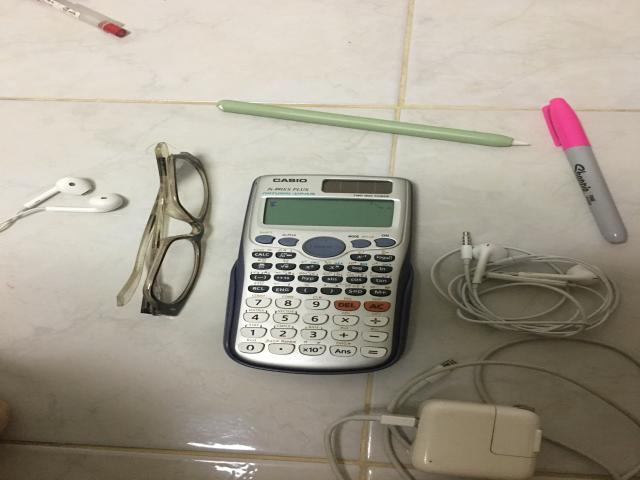Glasses: (117, 142, 210, 316)
Pen: (543, 98, 627, 244), (38, 0, 130, 38)
wire: (325, 360, 640, 480), (430, 233, 620, 337), (0, 176, 123, 232)
